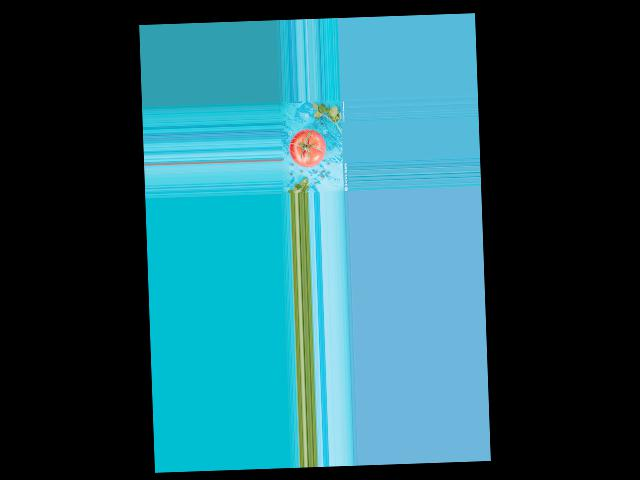tomato: (288, 127, 326, 167)
